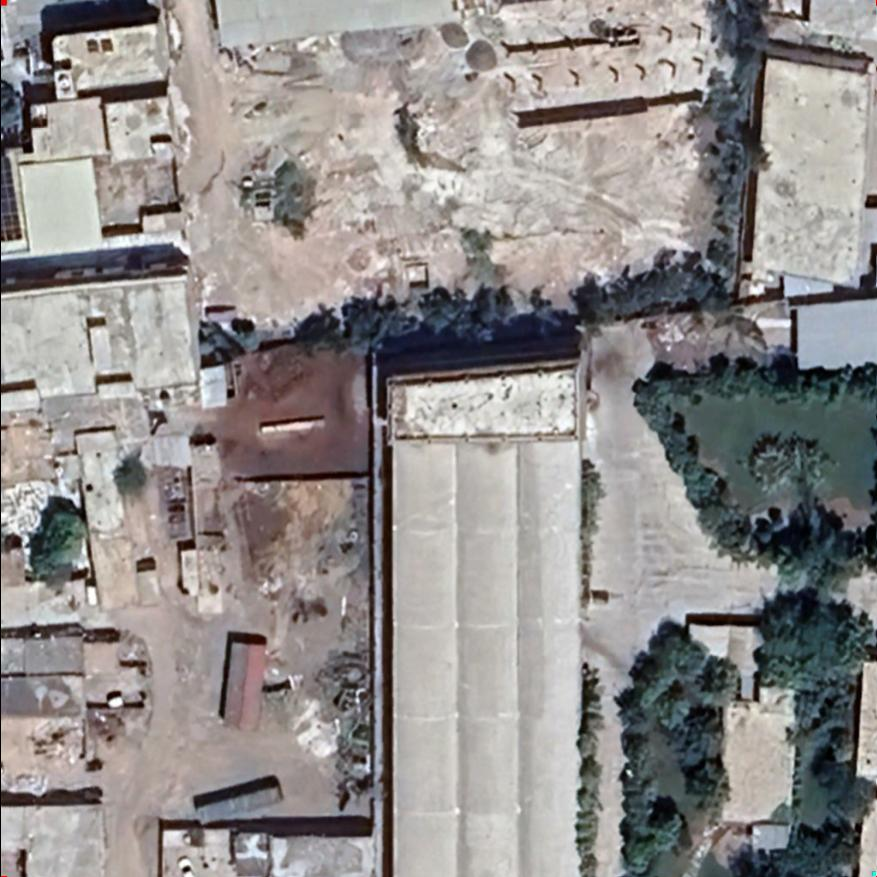Solarpanel: (0, 150, 25, 243)
